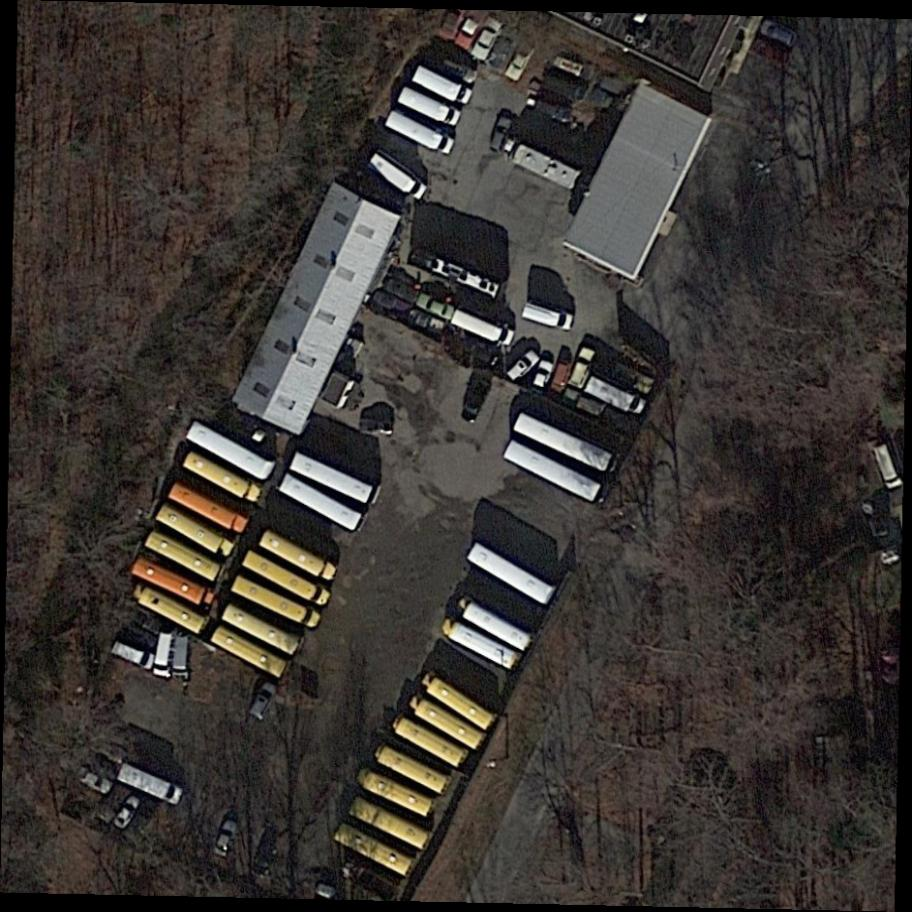large-vehicle: (503, 441, 600, 504), (512, 415, 616, 471), (467, 542, 556, 607), (184, 421, 276, 481), (229, 573, 322, 632), (241, 550, 333, 609), (278, 475, 366, 535), (289, 451, 379, 507), (156, 501, 236, 560), (132, 554, 216, 610), (332, 823, 415, 879), (441, 618, 524, 673), (456, 597, 534, 655), (222, 602, 304, 657), (421, 672, 496, 731), (258, 529, 341, 582), (212, 624, 289, 680), (351, 797, 432, 850), (130, 584, 209, 638), (184, 452, 263, 506), (407, 695, 483, 750), (145, 531, 224, 583), (393, 715, 469, 769), (373, 744, 451, 795), (365, 147, 431, 206), (167, 484, 248, 532), (358, 770, 436, 816), (385, 108, 457, 157), (395, 87, 463, 130), (117, 764, 185, 805), (410, 64, 474, 107), (584, 374, 648, 417), (451, 309, 514, 349), (521, 301, 574, 333)
small-vehicle: (871, 441, 907, 493), (486, 25, 522, 73), (107, 640, 156, 674), (459, 376, 493, 424), (756, 16, 802, 51), (502, 39, 537, 83), (411, 290, 455, 323), (471, 16, 503, 61), (504, 347, 541, 385), (247, 678, 279, 721), (405, 307, 448, 338), (209, 817, 239, 861), (73, 765, 117, 795), (111, 792, 144, 832), (569, 346, 596, 389), (486, 113, 514, 154), (150, 632, 174, 679), (438, 59, 478, 86), (528, 359, 555, 398), (549, 357, 573, 396), (170, 637, 190, 680), (358, 416, 395, 439)
